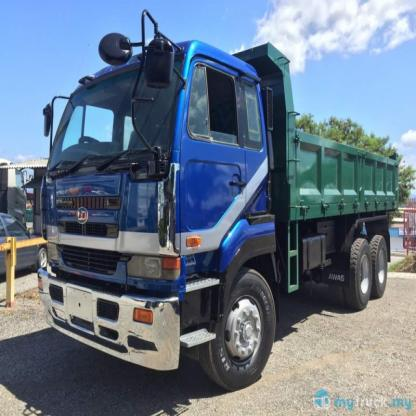dump_truck: (28, 20, 401, 392)
